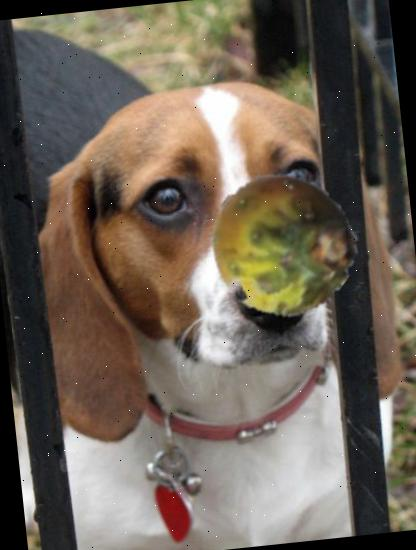Cactus: (202, 163, 364, 326)
